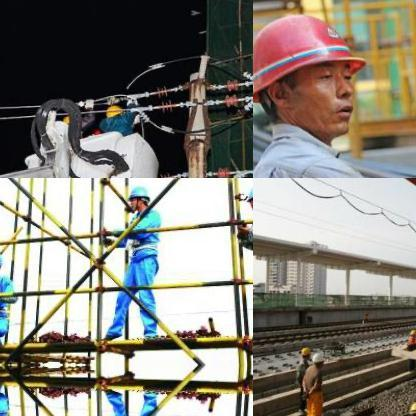Helmet: (253, 0, 377, 145), (125, 180, 151, 212), (103, 100, 127, 121), (242, 181, 252, 210), (311, 349, 323, 367), (405, 398, 415, 415), (298, 345, 310, 359), (0, 245, 5, 275), (407, 326, 415, 336)
